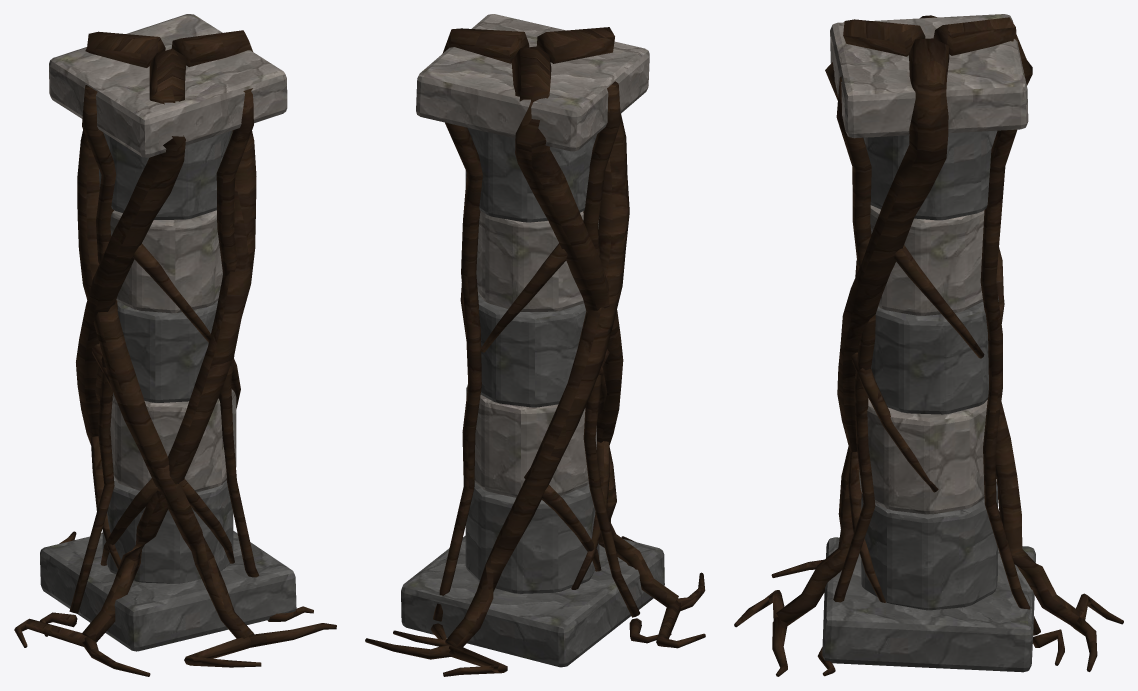
Rendered from column_rootwrapped.glb.
3 renders of one model, left to right at view 1: azimuth 30°, elevation 25°; view 2: azimuth 150°, elevation 25°; view 3: azimuth 270°, elevation 25°, orthographic. The views are drawn at different scales.
Parts seen in each view (by area): view 1: model; view 2: model; view 3: model.
Part boxes in pixels (box(x1,y1,x2,y2)): model: box(14, 14, 336, 676); model: box(365, 14, 705, 676); model: box(734, 14, 1123, 676).
Bounding box in the file's own units: 0.9933 × 2.1 × 1.23.
3 materials, 3 textured.
